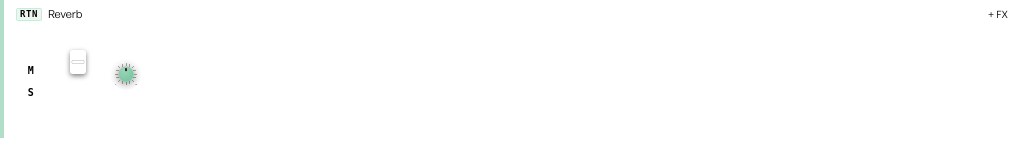
Scenario: ReturnTrackHeader — name editing › shows an input with current name on double-click
Double-click the text "Reverb" at (65, 14), box [48,7,82,21]
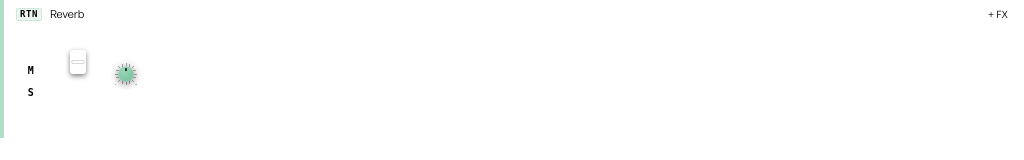
Check: the field named "track name" holds "Reverb", box [46,6,976,22]
